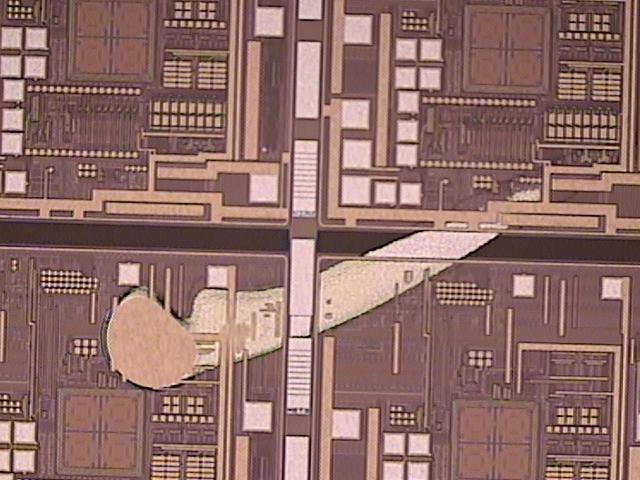BLOCK ETCH: (94, 131, 640, 403)
